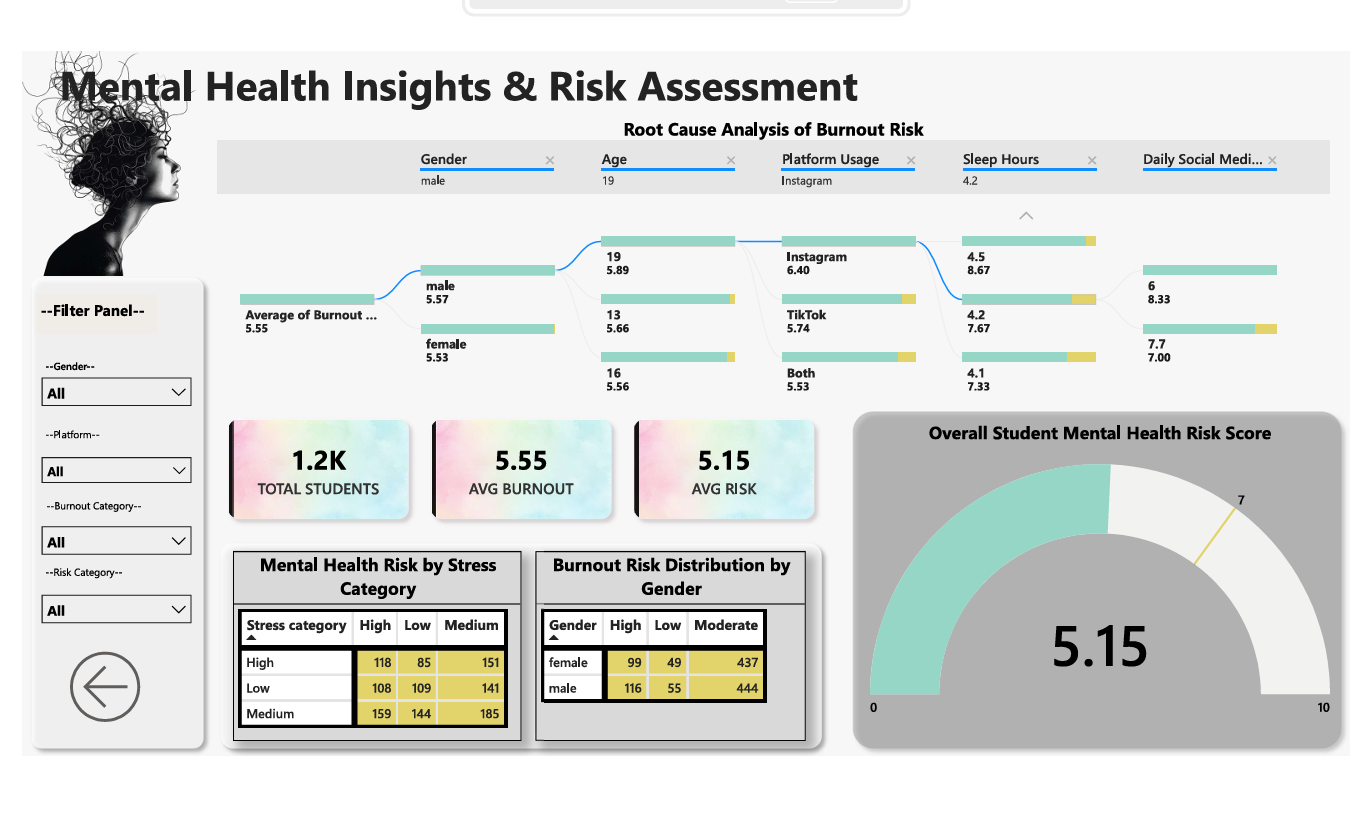

What the dashboard file says about the page in this screenshot:
{"tool":"powerbi","page":{"name":"🧠","canvas":[1400,742],"ordinal":1},"visuals":[{"type":"shape","box":[0,228.8,199.7,513.8],"z":0},{"type":"image","box":[0,0,221.9,235.6],"z":1000},{"type":"cardVisual","fields":{"Data":["Teen_Mental_Health_Dataset.Total students","Teen_Mental_Health_Dataset.Average Burnout","Teen_Mental_Health_Dataset.Average Risk"]},"box":[199.7,370.4,652.1,138.3],"z":2000},{"type":"shape","box":[199.7,508.7,652.1,233.9],"z":3000},{"type":"shape","box":[525.8,529.2,30.7,186.1],"z":4000},{"type":"shape","box":[867.2,370.4,532.6,372.1],"z":5000},{"type":"slicer","fields":{"Values":["Teen_Mental_Health_Dataset.Gender"]},"box":[10.2,332.9,177.5,54.6],"z":6000},{"type":"textbox","box":[13.7,256.1,128,41],"z":7000},{"type":"textbox","box":[18.8,315.8,111,34.1],"z":8000},{"type":"slicer","fields":{"Values":["Teen_Mental_Health_Dataset.Platform Usage"]},"box":[10.2,416.5,177.5,46.1],"z":9000},{"type":"textbox","box":[18.8,387.5,99,35.8],"z":10000},{"type":"gauge","title":"Overall Student Mental Health Risk Score","fields":{"Y":["Avg(Teen_Mental_Health_Dataset.Risk Score)"],"TargetValue":["Teen_Mental_Health_Dataset.Target"],"MinValue":["Teen_Mental_Health_Dataset.Min Gauge"],"MaxValue":["Teen_Mental_Health_Dataset.Max Gauge"]},"box":[889.4,387.5,495.1,338],"z":11000},{"type":"pivotTable","title":"Burnout Risk Distribution by Gender","fields":{"Rows":["Teen_Mental_Health_Dataset.Gender"],"Columns":["Teen_Mental_Health_Dataset.Burnout category"],"Values":["Teen_Mental_Health_Dataset.Total students"]},"box":[541.1,525.8,285.1,199.7],"z":12000},{"type":"pivotTable","title":"Mental Health Risk by Stress Category ","fields":{"Rows":["Teen_Mental_Health_Dataset.Stress category"],"Columns":["Teen_Mental_Health_Dataset.Anxiety Category"],"Values":["Teen_Mental_Health_Dataset.Total students"]},"box":[221.9,525.8,303.9,199.7],"z":13000},{"type":"decompositionTreeVisual","title":"Root Cause Analysis of Burnout Risk","fields":{"Analyze":["Avg(Teen_Mental_Health_Dataset.Burnout Score)"],"ExplainBy":["Teen_Mental_Health_Dataset.Gender","Teen_Mental_Health_Dataset.Age","Teen_Mental_Health_Dataset.Platform Usage","Teen_Mental_Health_Dataset.Sleep Hours","Teen_Mental_Health_Dataset.Daily Social Media Hours"]},"box":[199.7,68.3,1184.7,302.2],"z":14000},{"type":"textbox","box":[0,0,920.1,68.3],"z":15000},{"type":"actionButton","box":[41,623.1,100.7,92.2],"z":16000},{"type":"slicer","fields":{"Values":["Teen_Mental_Health_Dataset.Burnout category"]},"box":[10.2,489.9,177.5,47.8],"z":17000},{"type":"slicer","fields":{"Values":["Teen_Mental_Health_Dataset.Risk Category"]},"box":[10.2,561.6,177.5,46.1],"z":18000},{"type":"textbox","box":[20.5,462.6,121.2,30.7],"z":19000},{"type":"textbox","box":[18.8,532.6,136.6,47.8],"z":20000}]}

Visuals, with their boxes on the page's 1400x742 design canvas (x1, y1, x2, y2). These are canvas units, not pixel positions in the 1353x829 screenshot, which may show the page scaled, cropped or inside an application window:
shape: 0:229:200:743
image: 0:0:222:236
cardVisual - Teen_Mental_Health_Dataset.Total students x Teen_Mental_Health_Dataset.Average Burnout: 200:370:852:509
shape: 200:509:852:743
shape: 526:529:556:715
shape: 867:370:1400:742
slicer - Teen_Mental_Health_Dataset.Gender: 10:333:188:388
textbox: 14:256:142:297
textbox: 19:316:130:350
slicer - Teen_Mental_Health_Dataset.Platform Usage: 10:416:188:463
textbox: 19:388:118:423
"Overall Student Mental Health Risk Score" gauge: 889:388:1384:726
"Burnout Risk Distribution by Gender" pivotTable: 541:526:826:726
"Mental Health Risk by Stress Category " pivotTable: 222:526:526:726
"Root Cause Analysis of Burnout Risk" decompositionTreeVisual: 200:68:1384:370
textbox: 0:0:920:68
actionButton: 41:623:142:715
slicer - Teen_Mental_Health_Dataset.Burnout category: 10:490:188:538
slicer - Teen_Mental_Health_Dataset.Risk Category: 10:562:188:608
textbox: 20:463:142:493
textbox: 19:533:155:580
